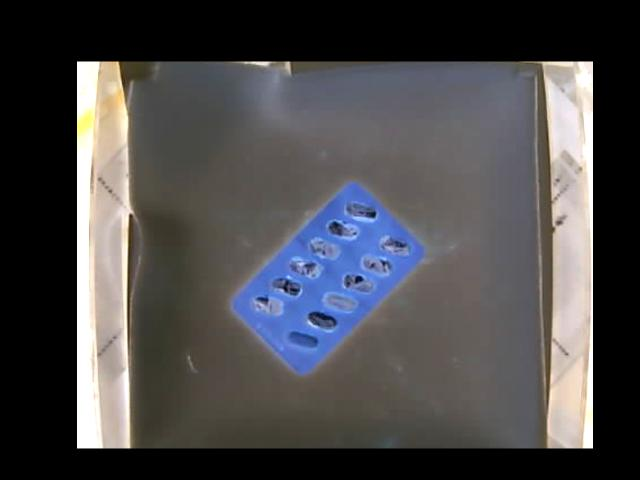Medicine: (234, 180, 418, 375)
